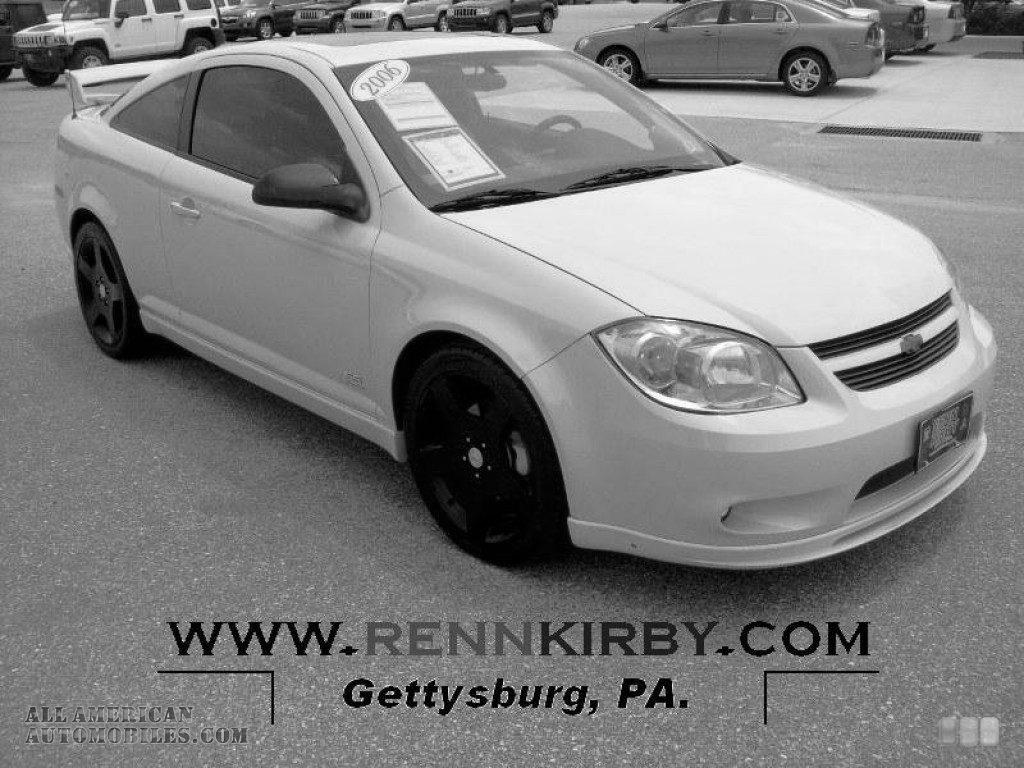car: (45, 30, 1003, 581)
